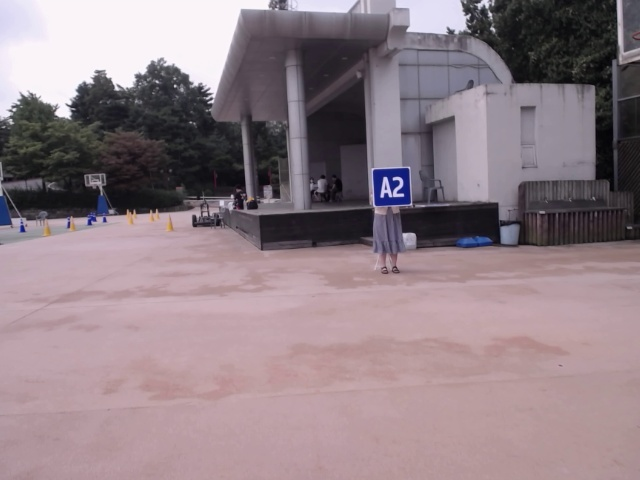delivery_a2: (372, 167, 412, 207)
